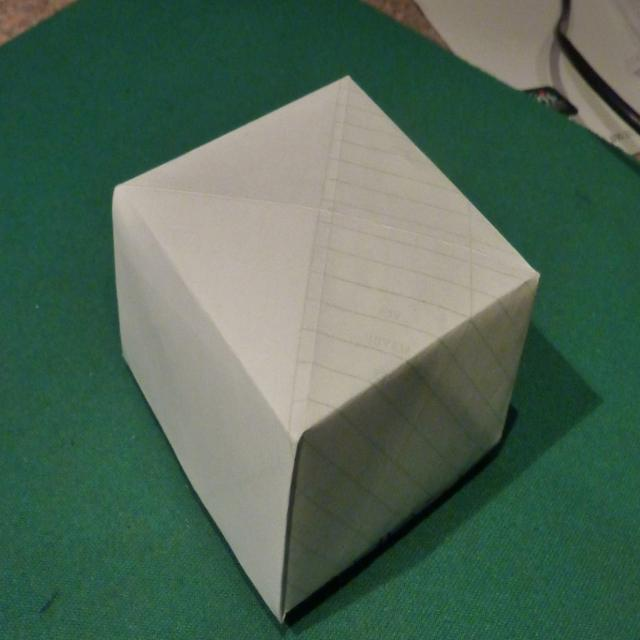Box: (112, 75, 540, 624)
